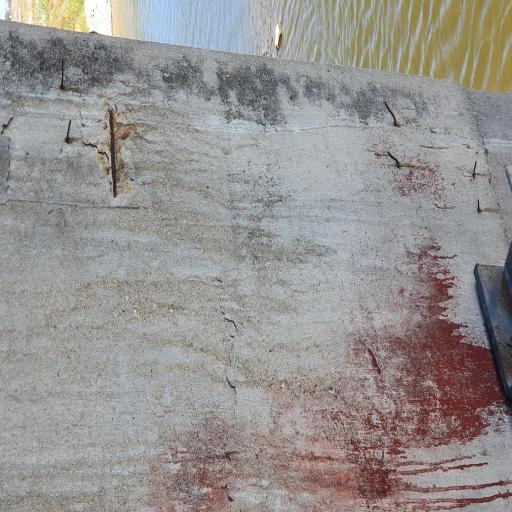exposed_rebar: (109, 110, 117, 197), (384, 101, 398, 126), (388, 151, 401, 167), (65, 119, 71, 144), (60, 59, 64, 91), (472, 162, 477, 178), (477, 200, 482, 213)
